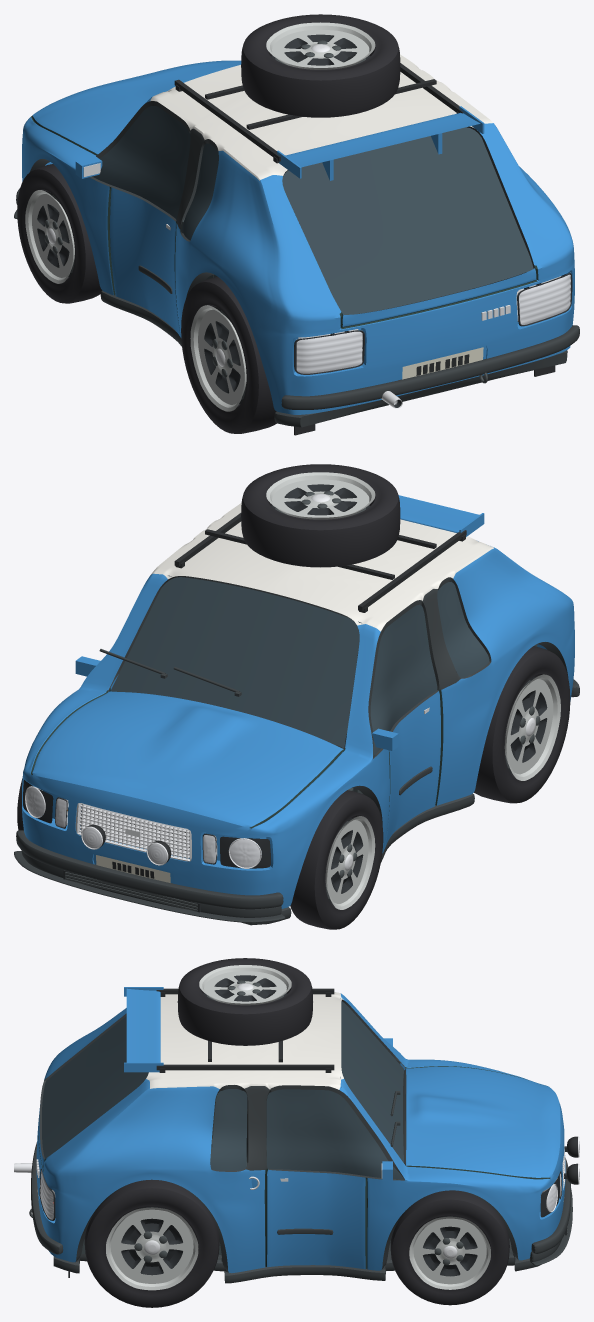
The model's file is forge_kestrel.fbx.
3 views of the same model, one above another, from view 1: azimuth 30°, elevation 25°; view 2: azimuth 150°, elevation 25°; view 3: azimuth 270°, elevation 25° (orthographic). The views are drawn at different scales.
Visible parts, largest first — view 1: Body, Wheel_RL_Mesh, Wheel_FL_Mesh; view 2: Body, Wheel_RL_Mesh, Wheel_FL_Mesh; view 3: Body, Wheel_RR_Mesh, Wheel_FR_Mesh.
Part boxes in pixels (box(x1,y1,x2,y2)): Body: box(14, 14, 579, 435); Wheel_RL_Mesh: box(181, 276, 276, 433); Wheel_FL_Mesh: box(17, 164, 102, 303); Body: box(14, 464, 579, 925); Wheel_RL_Mesh: box(474, 646, 570, 803); Wheel_FL_Mesh: box(290, 790, 383, 929); Body: box(14, 958, 579, 1283); Wheel_RR_Mesh: box(84, 1179, 219, 1307); Wheel_FR_Mesh: box(390, 1190, 509, 1305).
Bounding box in the file's own units: 182 × 169 × 331.
